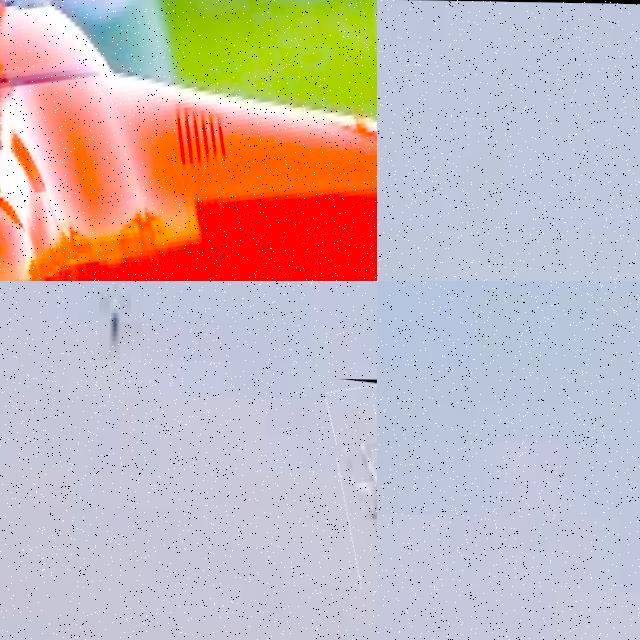0: (333, 378, 377, 590)
drone: (0, 0, 377, 281)
